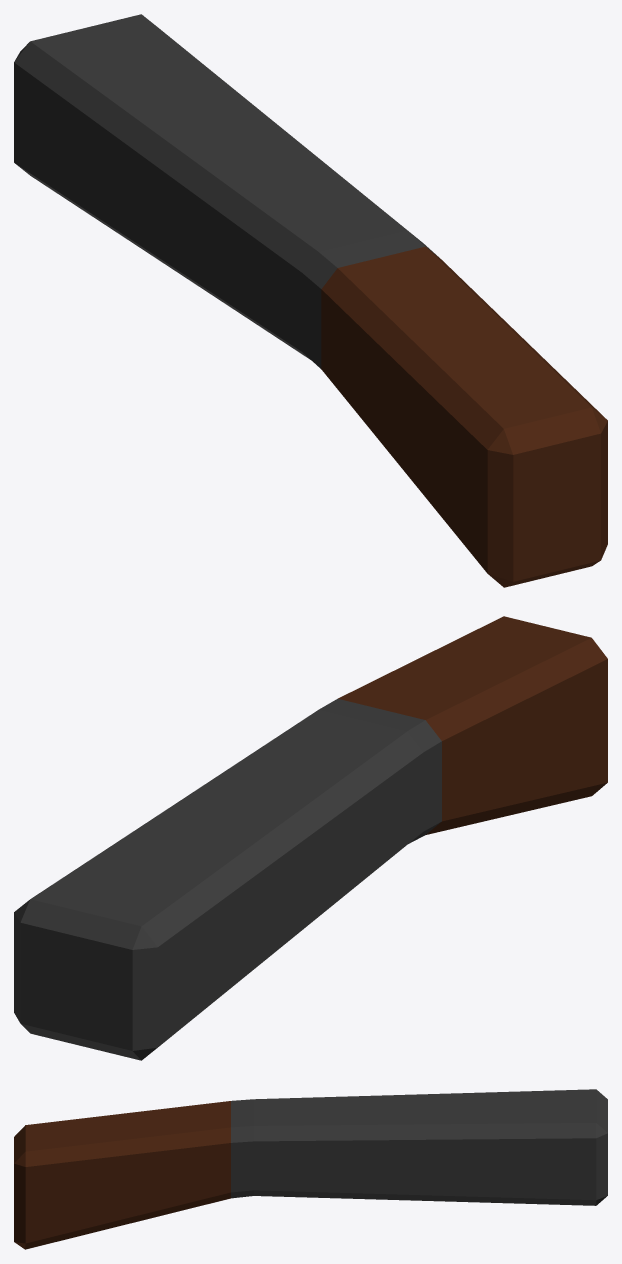
The model's file is shotgun.fbx.
3 renders of one model, top to bottom at view 1: azimuth 30°, elevation 25°; view 2: azimuth 150°, elevation 25°; view 3: azimuth 270°, elevation 25°, orthographic. The views are drawn at different scales.
Visible parts, largest first — view 1: Cube, Cube.002; view 2: Cube, Cube.002; view 3: Cube, Cube.002.
Part boxes in pixels (x1=…): Cube: x1=14, y1=14, x2=439, y2=368; Cube.002: x1=321, y1=246, x2=607, y2=587; Cube: x1=14, y1=698, x2=441, y2=1060; Cube.002: x1=338, y1=616, x2=607, y2=834; Cube: x1=231, y1=1089, x2=607, y2=1205; Cube.002: x1=14, y1=1101, x2=231, y2=1249.
Size of the model in its own units: 8.98 by 12.59 by 52.
